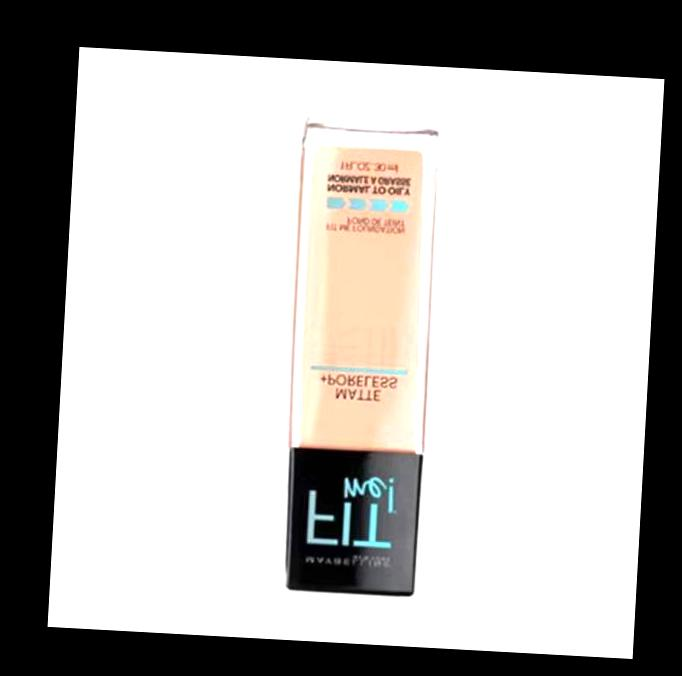cosmetic: (284, 113, 442, 598)
